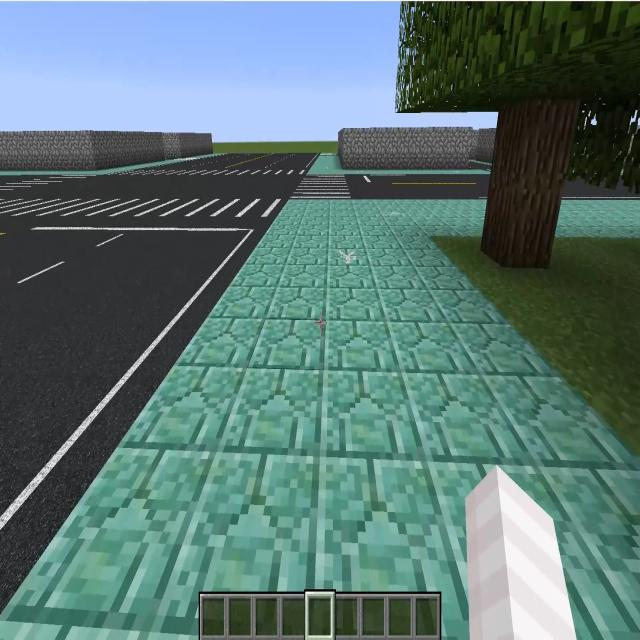crosswalk: (0, 198, 280, 218), (0, 175, 88, 191), (292, 175, 350, 198), (118, 169, 304, 176)
road: (1, 226, 268, 597), (7, 178, 300, 200), (348, 176, 491, 198), (168, 151, 318, 168)
sidewalk: (0, 197, 640, 639), (274, 198, 484, 238), (0, 153, 224, 175), (553, 200, 640, 255), (309, 154, 433, 175), (435, 163, 489, 176)
